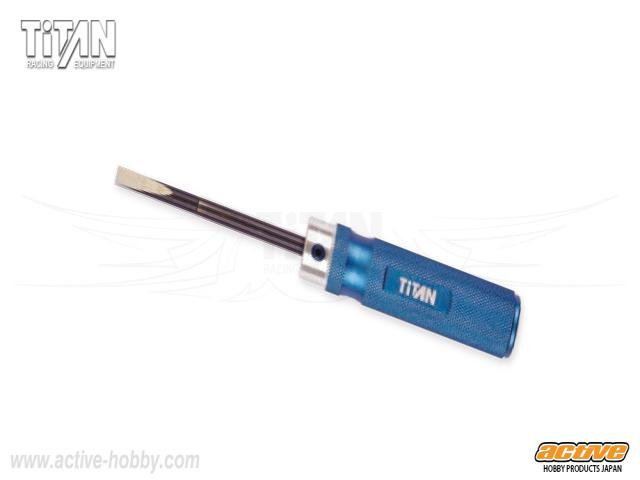Screwdriver: (116, 168, 520, 357)
